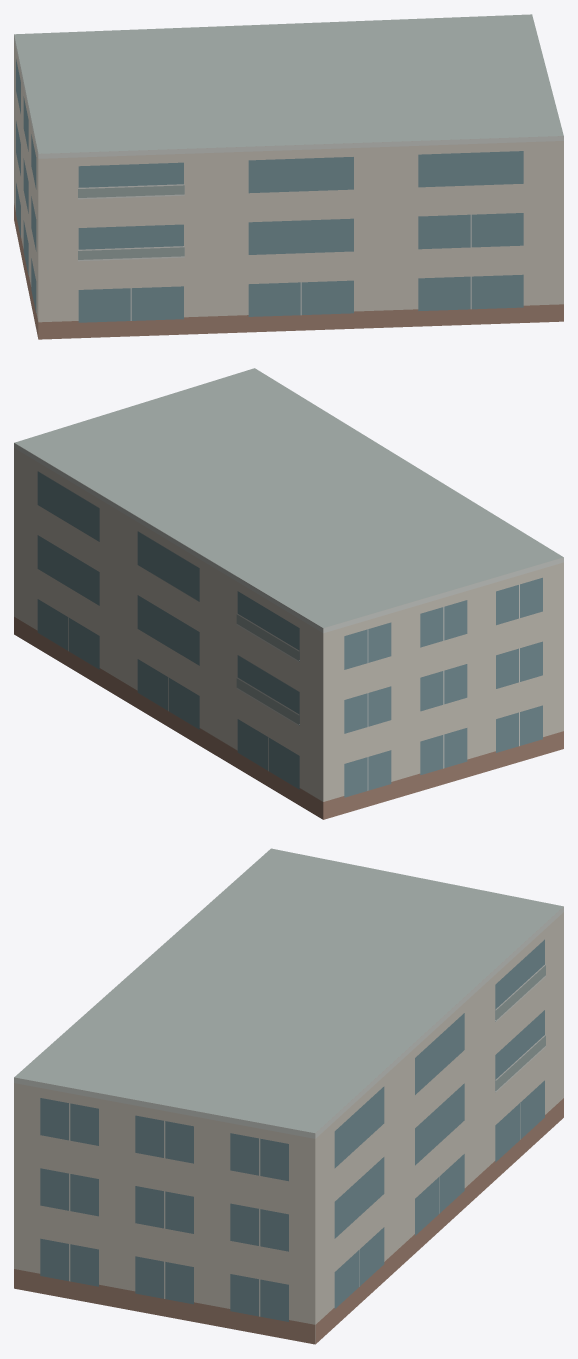
File: survey-upis-32537722.glb
3 renders of one model, top to bottom at view 1: azimuth 30°, elevation 25°; view 2: azimuth 150°, elevation 25°; view 3: azimuth 270°, elevation 25°, orthographic. The views are drawn at different scales.
Visible parts, largest first — view 1: survey-upis-32537722.tmp; view 2: survey-upis-32537722.tmp; view 3: survey-upis-32537722.tmp.
Part boxes in pixels (bbox=[...]): survey-upis-32537722.tmp: bbox=[14, 14, 563, 339]; survey-upis-32537722.tmp: bbox=[14, 368, 563, 819]; survey-upis-32537722.tmp: bbox=[14, 848, 563, 1344].
Size of the model in its own units: 26.48 by 9.15 by 21.6.
